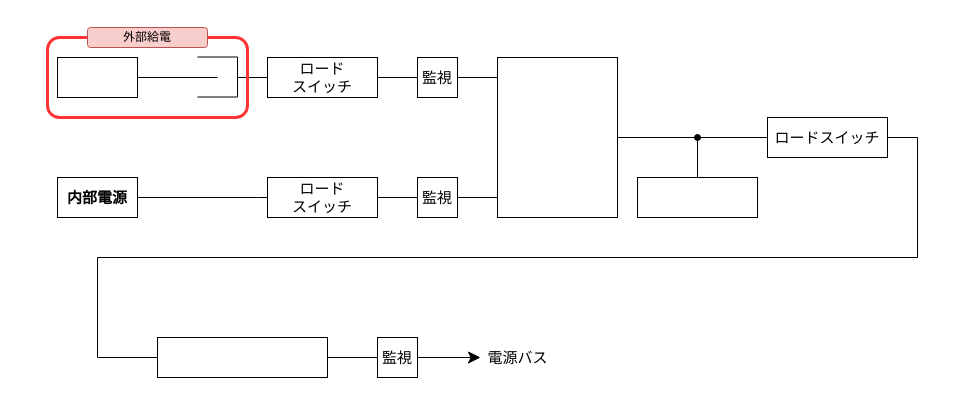
The diagram is 964 pixels wide and 414 high, and some of its shapes have lost their labels. The centre of each missing label's shape, as x and y in pixels:
"DC-DC コンバーター" goes at point (242, 357).
"バックアップ コンデンサ" goes at point (697, 197).
"外部電源" goes at point (97, 77).
"理想ダイオード OR" goes at point (557, 137).
